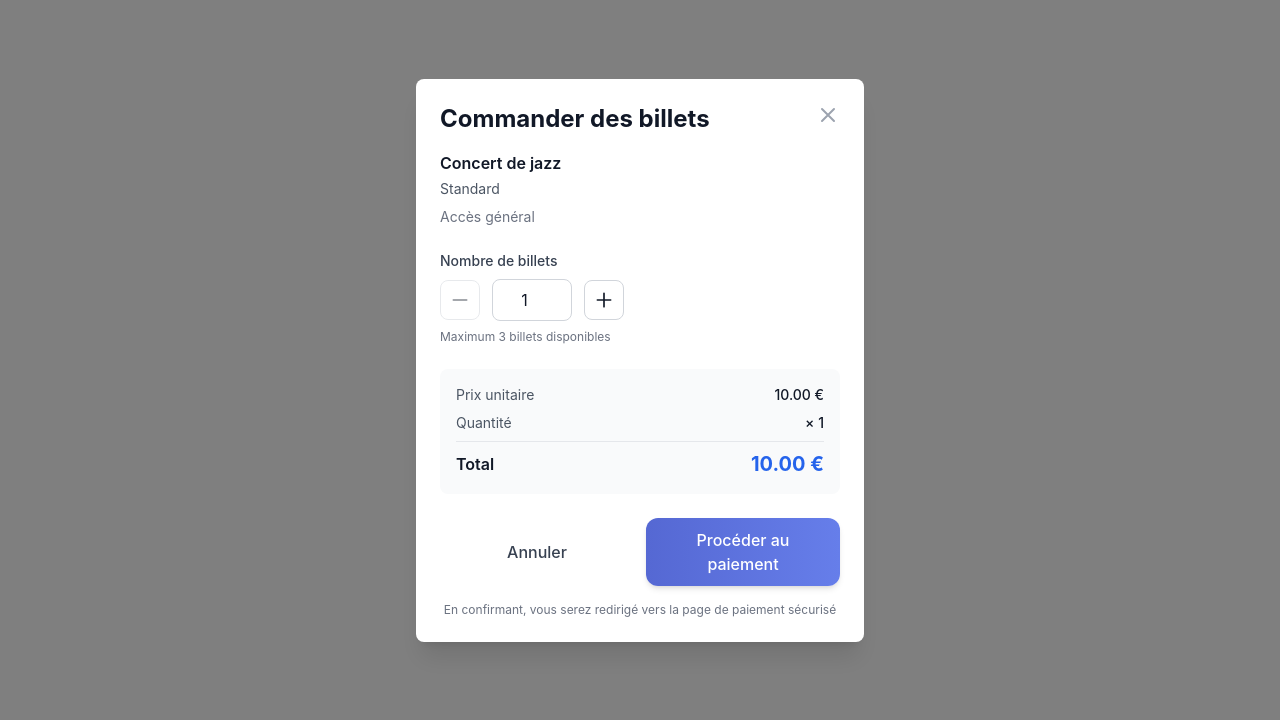
Scenario: CheckoutModal › shows an error message and does not close when the order fails
This screenshot has width=1280, height=720.
What coordinates should you click on to do the following:
click the button "Procéder au paiement"
I would click on:
 (743, 552)
Its box is [646,518,840,586].
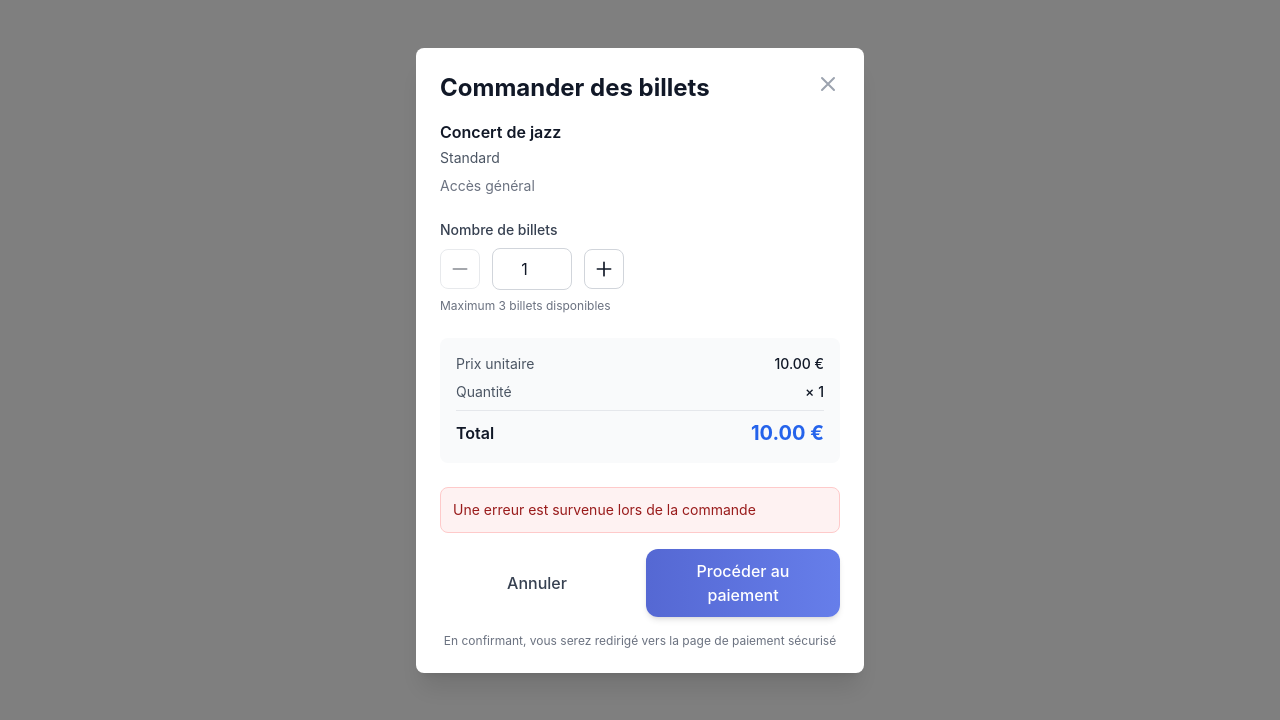
Now the text "Une erreur est survenue lors de la commande" is shown, box [453,500,756,518]
